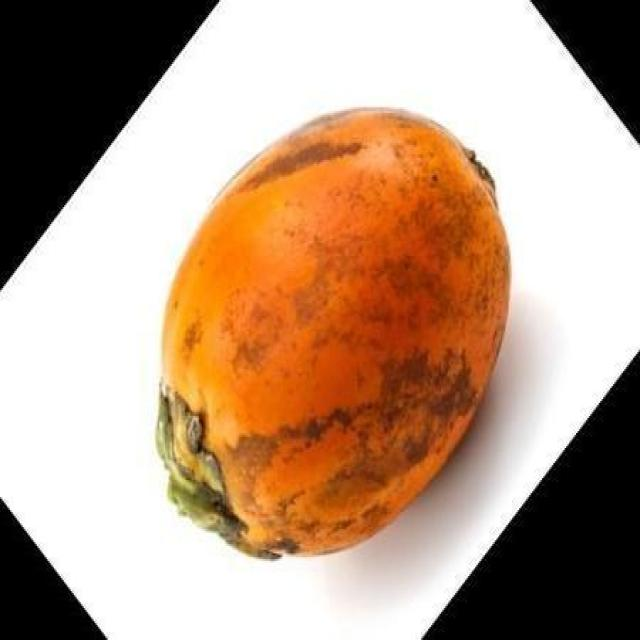good: (154, 107, 512, 563)
